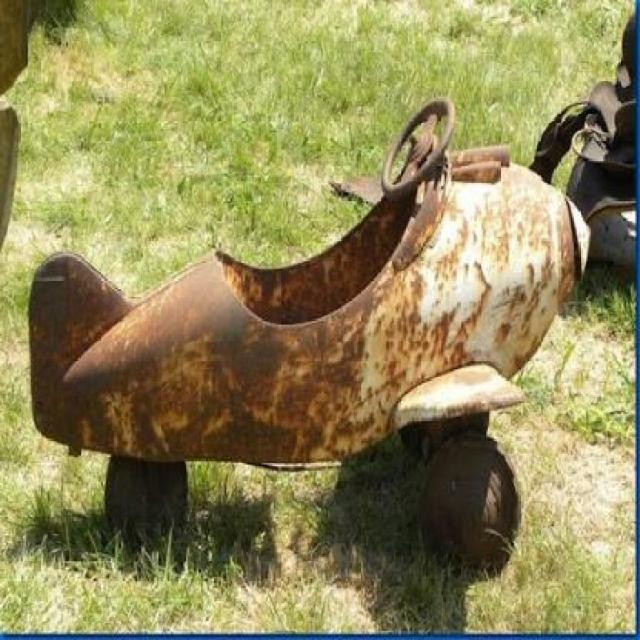corrosion: (28, 97, 590, 568)
